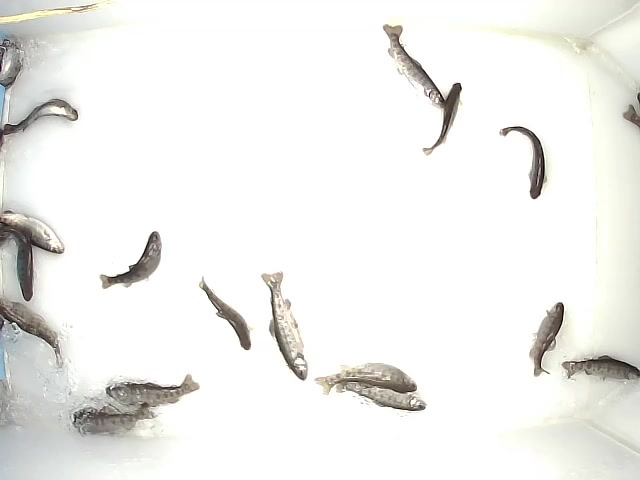fish: (382, 22, 448, 109), (261, 271, 309, 382), (1, 298, 63, 368), (198, 275, 253, 352), (98, 231, 162, 291), (102, 373, 203, 409), (499, 126, 548, 200), (314, 363, 419, 396), (335, 376, 428, 413), (1, 97, 79, 137), (422, 82, 463, 157), (69, 402, 158, 436), (529, 301, 565, 379), (561, 354, 640, 384)
